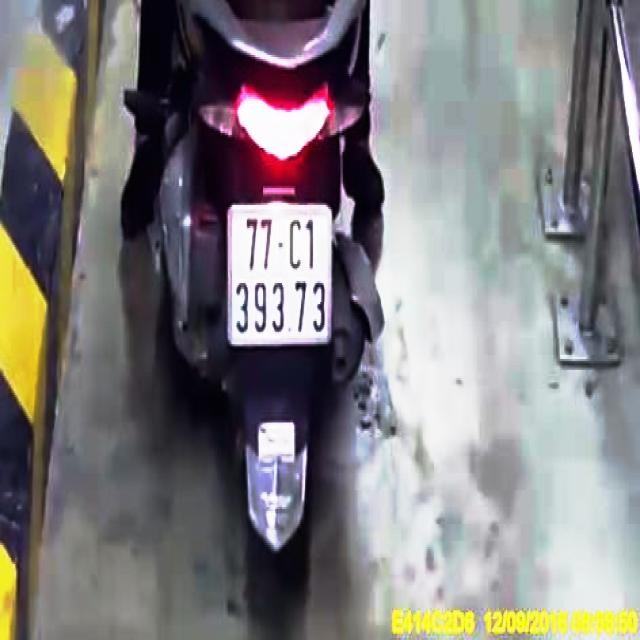license_plate: (233, 205, 334, 343)
